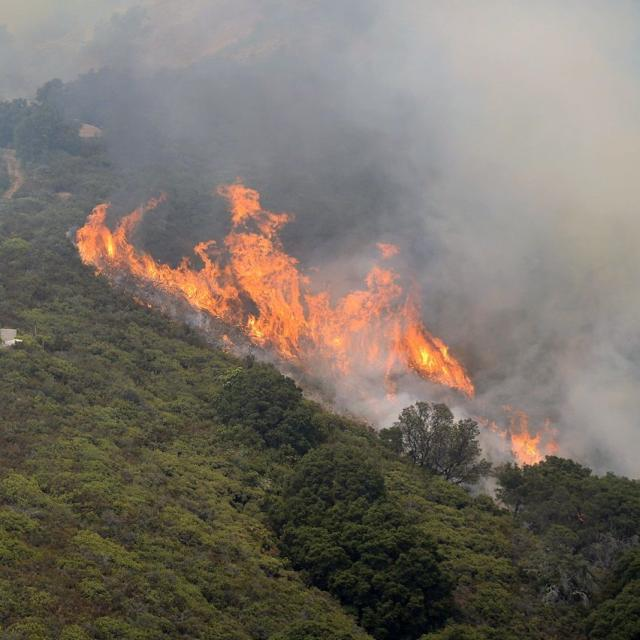Fire: (69, 188, 556, 474)
Smoke: (355, 0, 640, 456)
